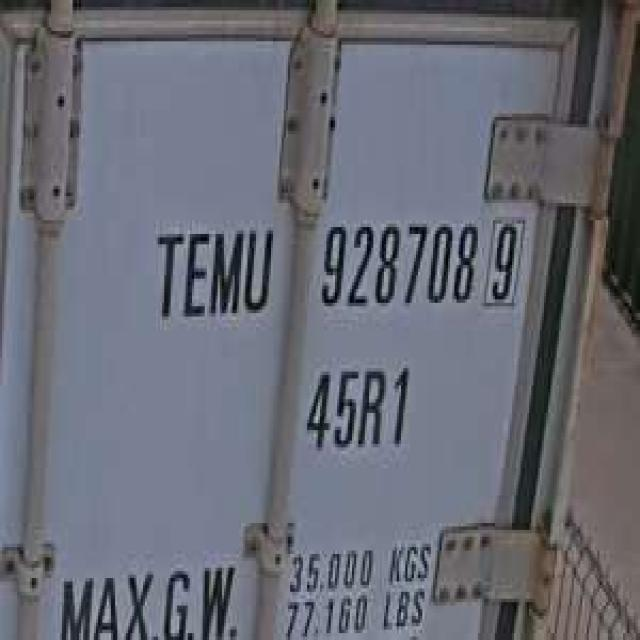dv: (484, 206, 527, 310)
owner: (148, 210, 278, 330)
serial: (314, 203, 480, 320)
size: (299, 354, 418, 464)
